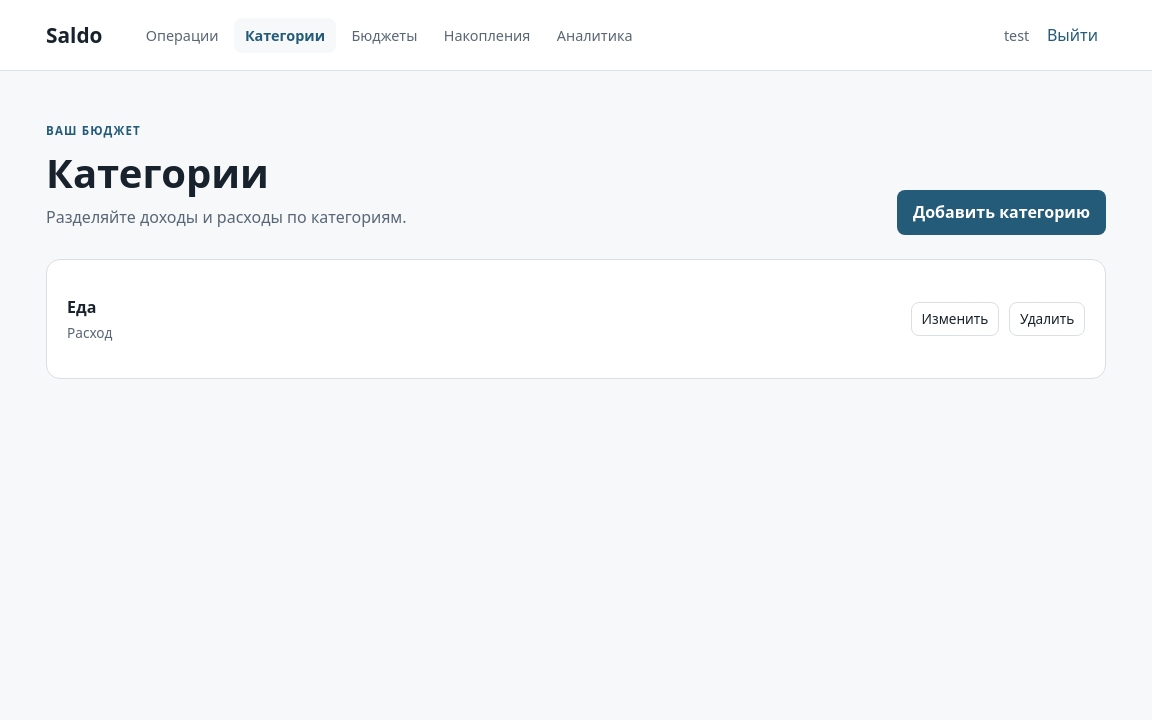
Scenario: categories › shows a server error on category update
Expected: the text "Еда" is shown, [67,296,96,318]
Click the button with aria-label "Изменить категорию Еда": click(955, 319) [911,302,999,336]
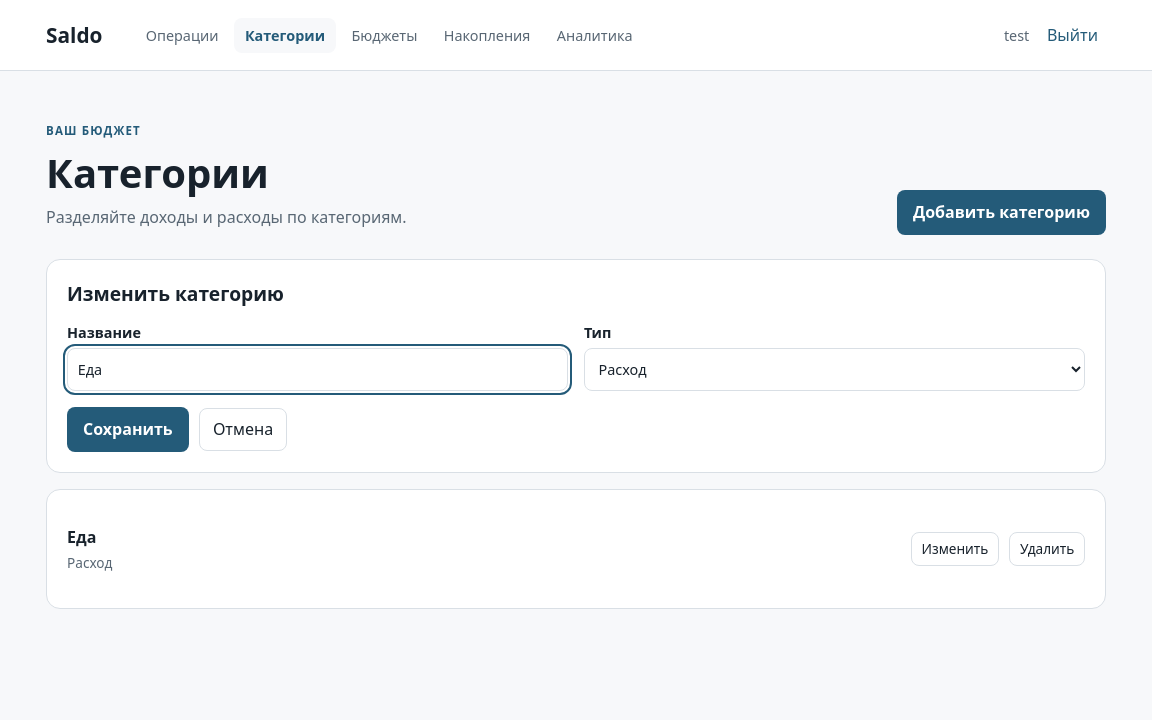
Select "Доход" in the dropdown labelled "Тип": (834, 370) [584,348,1085,391]
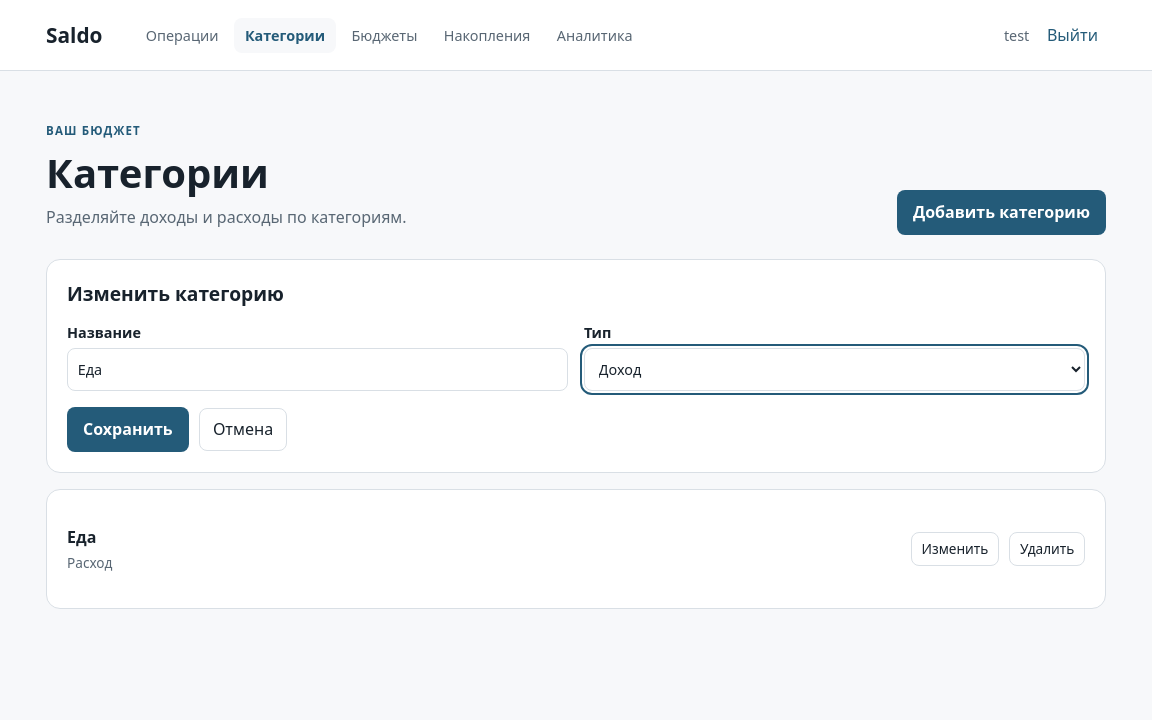
Click the button "Сохранить": click(128, 429) [67,407,189,452]
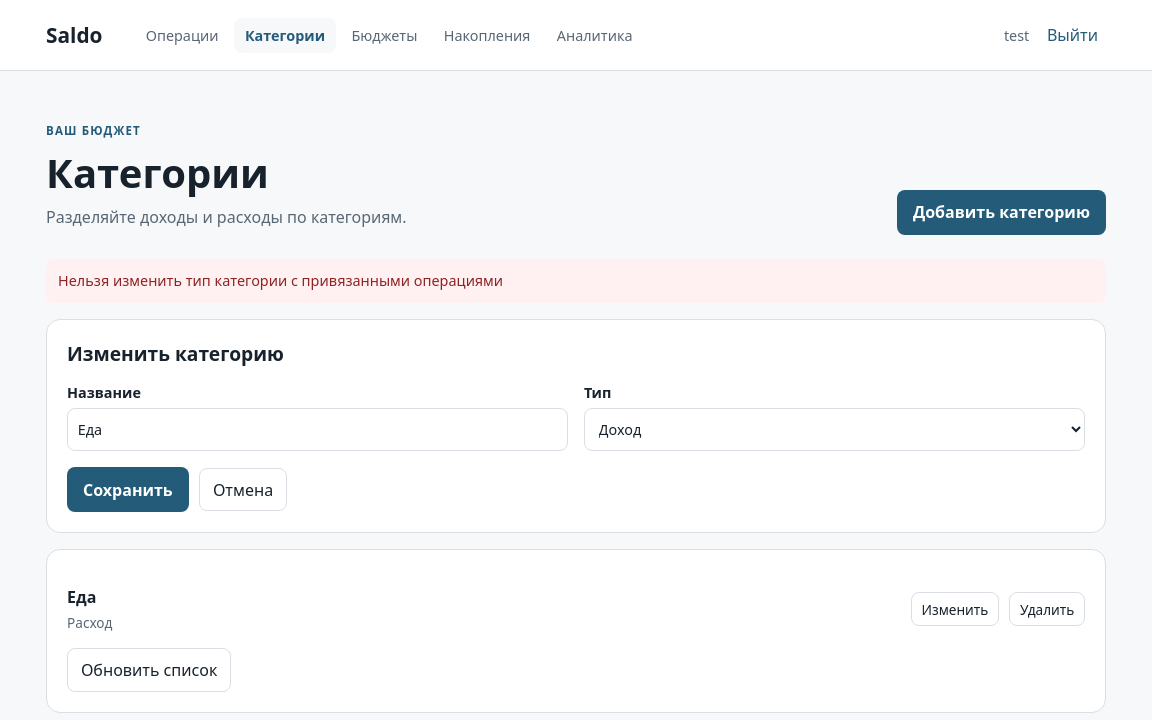
Result: the message shows "Нельзя изменить тип категории" at [58,271,503,290]
